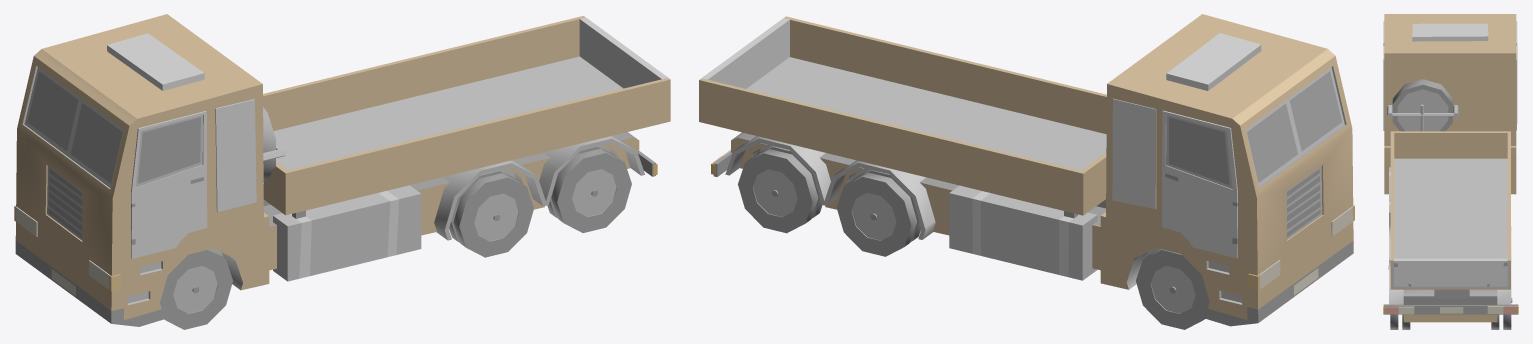
Rendered from kar27.fbx.
3 renders of one model, left to right at view 1: azimuth 30°, elevation 25°; view 2: azimuth 150°, elevation 25°; view 3: azimuth 270°, elevation 25°, orthographic. The views are drawn at different scales.
Visible parts, largest first — view 1: Boole_1, Extrude_1_1, Cylinder_4_1, Cylinder_3_1, Cylinder_1_1, Cube_1_1; view 2: Boole_1, Extrude_2_1, Cylinder_5_1, Cylinder_1, Cylinder_2_1, Cube_1_1; view 3: Boole_1, Cube_1_1, Cylinder_1, Cylinder_3_1, Extrude_2_1.
Part boxes in pixels (<box>): Boole_1: <box>14,14,670,326</box>; Extrude_1_1: <box>131,111,207,258</box>; Cylinder_4_1: <box>449,170,533,257</box>; Cylinder_3_1: <box>547,146,631,232</box>; Cylinder_1_1: <box>160,249,232,329</box>; Cube_1_1: <box>579,17,668,88</box>; Boole_1: <box>699,14,1354,326</box>; Extrude_2_1: <box>1162,110,1237,258</box>; Cylinder_5_1: <box>836,169,921,256</box>; Cylinder_1: <box>738,146,822,233</box>; Cylinder_2_1: <box>1136,249,1209,329</box>; Cube_1_1: <box>701,18,789,88</box>; Boole_1: <box>1383,14,1518,322</box>; Cube_1_1: <box>1394,258,1507,286</box>; Cylinder_1: <box>1491,298,1512,329</box>; Cylinder_3_1: <box>1390,314,1410,329</box>; Extrude_2_1: <box>1516,21,1517,123</box>.
Bounding box in the file's own units: 832 × 333 × 251.
